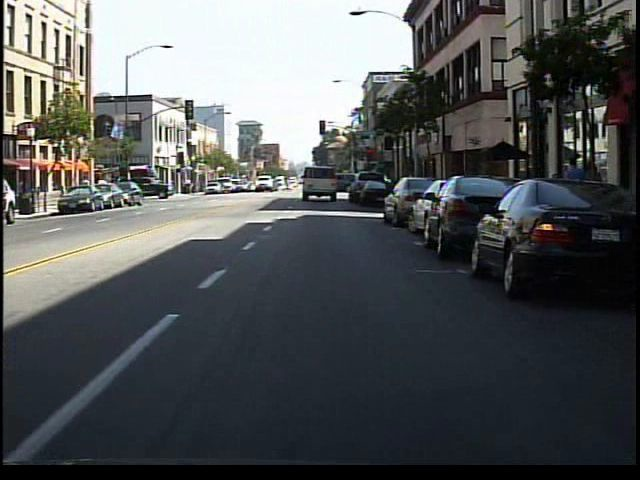person: (558, 151, 587, 235), (583, 157, 607, 231), (4, 170, 17, 232)
